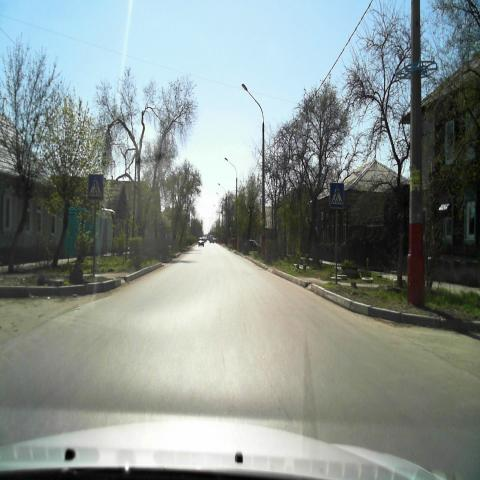5_19_1: (88, 173, 103, 200), (330, 182, 344, 207)
